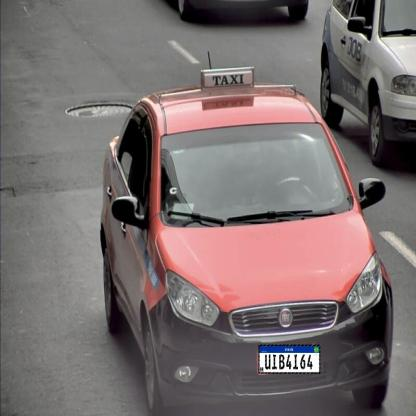PlacaM: (258, 344, 320, 374)
